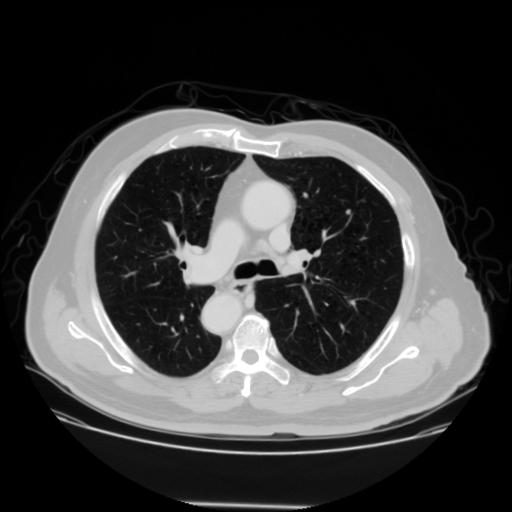nodule: (345, 206, 356, 217)
